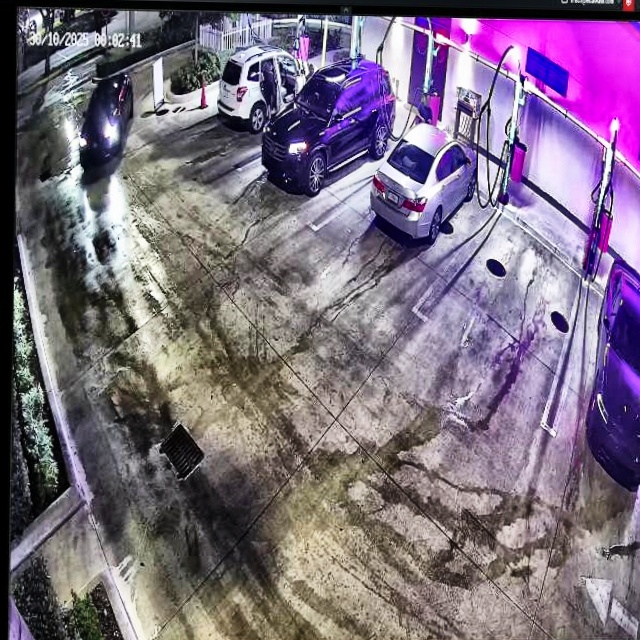Car: (261, 55, 397, 193), (366, 123, 481, 242), (78, 70, 133, 170)
